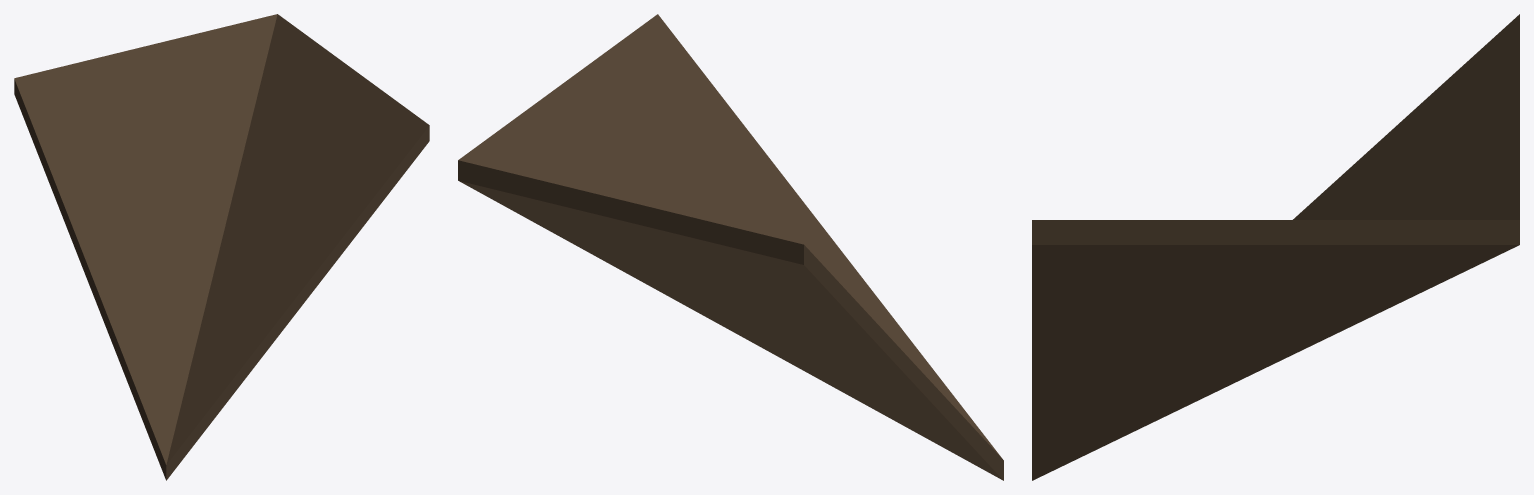
File: dach_kehle_2x2.glb
The picture shows the model from 3 angles, left to right: view 1: azimuth 30°, elevation 25°; view 2: azimuth 150°, elevation 25°; view 3: azimuth 270°, elevation 25°; orthographic projection. The views are drawn at different scales.
Visible parts, largest first — view 1: dach_kehle_2x2; view 2: dach_kehle_2x2; view 3: dach_kehle_2x2.
Boxes of the visible parts, x1,y1,x2,y2 form: dach_kehle_2x2: (14,14,429,480); dach_kehle_2x2: (458,14,1003,480); dach_kehle_2x2: (1032,14,1519,480).
Size of the model in its own units: 2 by 2.11 by 2.
